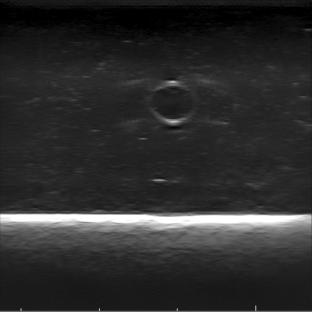vessel: (147, 79, 197, 125)
